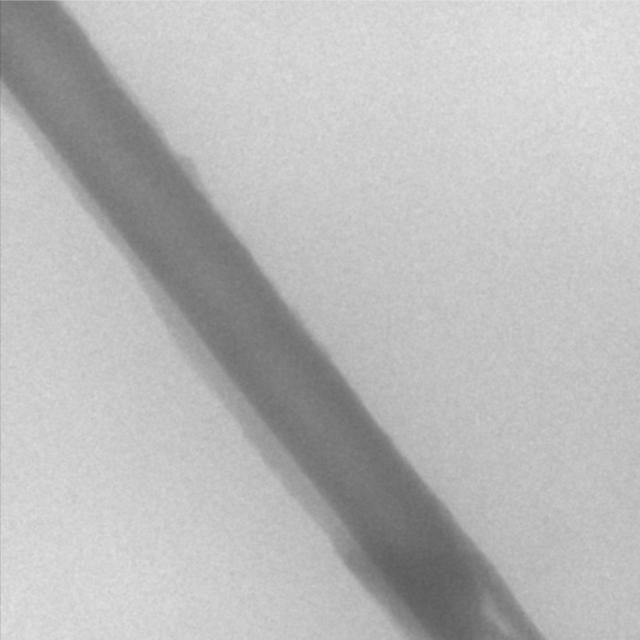unfused: (470, 586, 531, 639)
